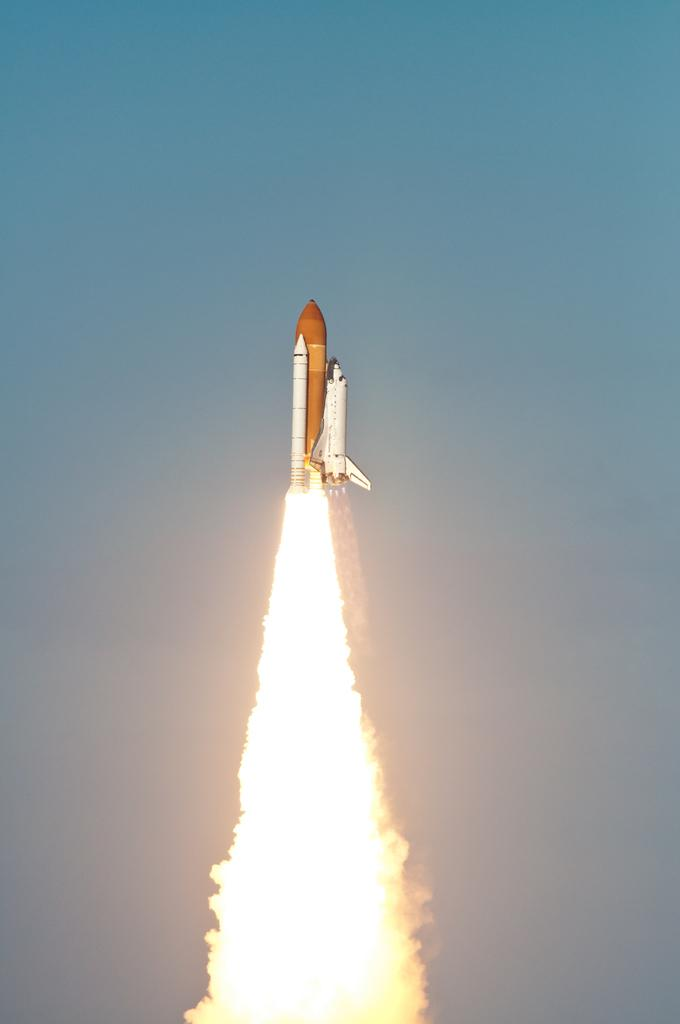Missile: (280, 260, 387, 504)
